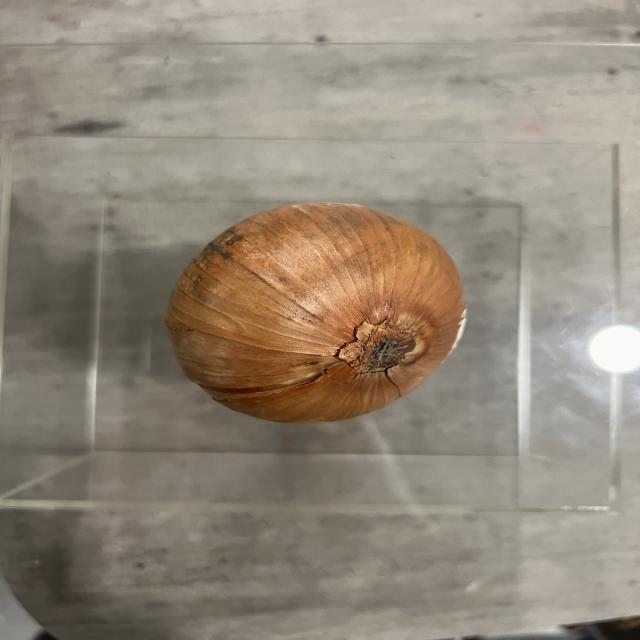onion: (168, 206, 463, 427)
